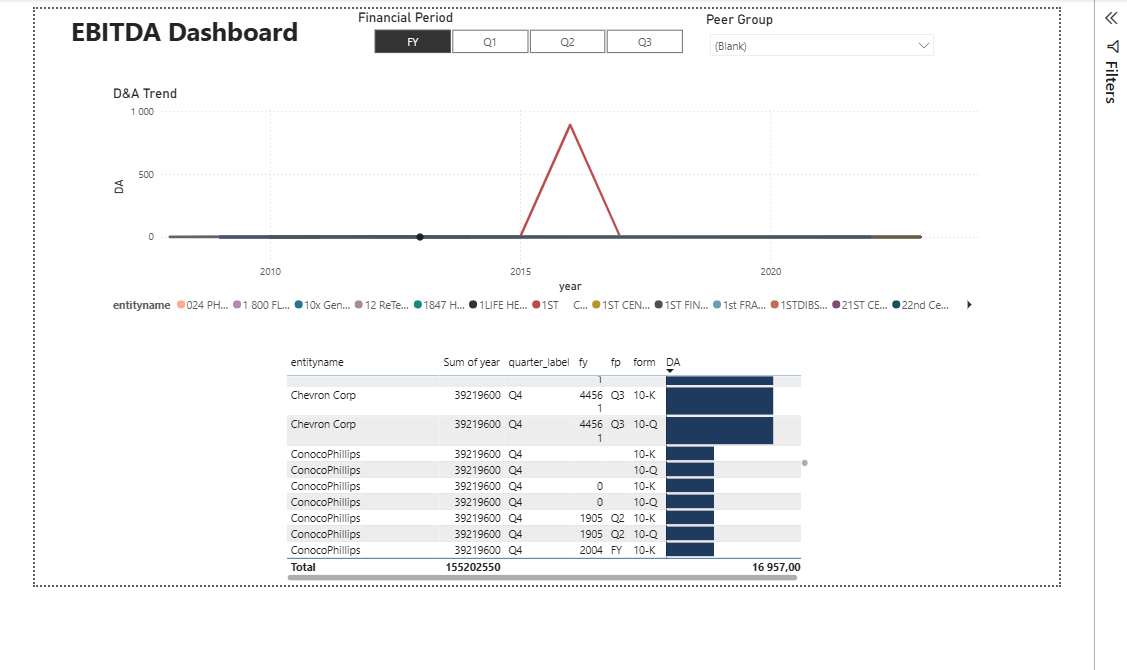

The page's visual inventory and layout, read from the dashboard file:
{"tool":"powerbi","page":{"name":"Depreciation Schedule","canvas":[1280,720],"ordinal":3},"visuals":[{"type":"textbox","box":[39.6,0,319.3,54.1],"z":0},{"type":"lineChart","title":"D&A Trend","fields":{"Y":["_Measures.DA"],"Series":["dim_company.entityname"],"Category":["fct_company_period.fy"]},"box":[26,303,772,359],"z":1000},{"type":"slicer","title":"Peer Group","fields":{"Values":["dim_company.peer_group"]},"box":[381.2,8.8,300,65],"z":2000},{"type":"slicer","title":"Financial Period","fields":{"Values":["fct_company_period.fp"]},"box":[988.8,8.8,277.5,62.5],"z":3000},{"type":"textbox","box":[374,669,479,33],"z":5000},{"type":"listSlicer","title":"Company","fields":{"Values":["dim_company.entityname"]},"box":[686.2,8.8,297.5,231.2],"z":6000},{"type":"cardVisual","title":"Yearly D & A","fields":{"Data":["_Measures.DA_CurrentYear"]},"box":[26.6,192.3,185,101.2],"z":6001},{"type":"cardVisual","title":"YOY Growth","fields":{"Data":["_Measures.YoY_Growth"]},"box":[218.2,192,195,101.5],"z":6002},{"type":"cardVisual","title":"Average D & A","fields":{"Data":["_Measures.Average_DA"]},"box":[419,192,178.8,101.5],"z":6003},{"type":"tableEx","title":"Details Per Period","fields":{"Values":["dim_company.entityname","fct_company_period.end_date","fct_company_period.fy","fct_company_period.fp","_Measures.DA"]},"box":[805,303,462,359],"z":6004}]}

Visuals, with their boxes on the page's 1280x720 design canvas (x1, y1, x2, y2). These are canvas units, not pixel positions in the 1127x670 screenshot, which may show the page scaled, cropped or inside an application window:
textbox: 40:0:359:54
"D&A Trend" lineChart: 26:303:798:662
"Peer Group" slicer: 381:9:681:74
"Financial Period" slicer: 989:9:1266:71
textbox: 374:669:853:702
"Company" listSlicer: 686:9:984:240
"Yearly D & A" cardVisual: 27:192:212:294
"YOY Growth" cardVisual: 218:192:413:294
"Average D & A" cardVisual: 419:192:598:294
"Details Per Period" tableEx: 805:303:1267:662
